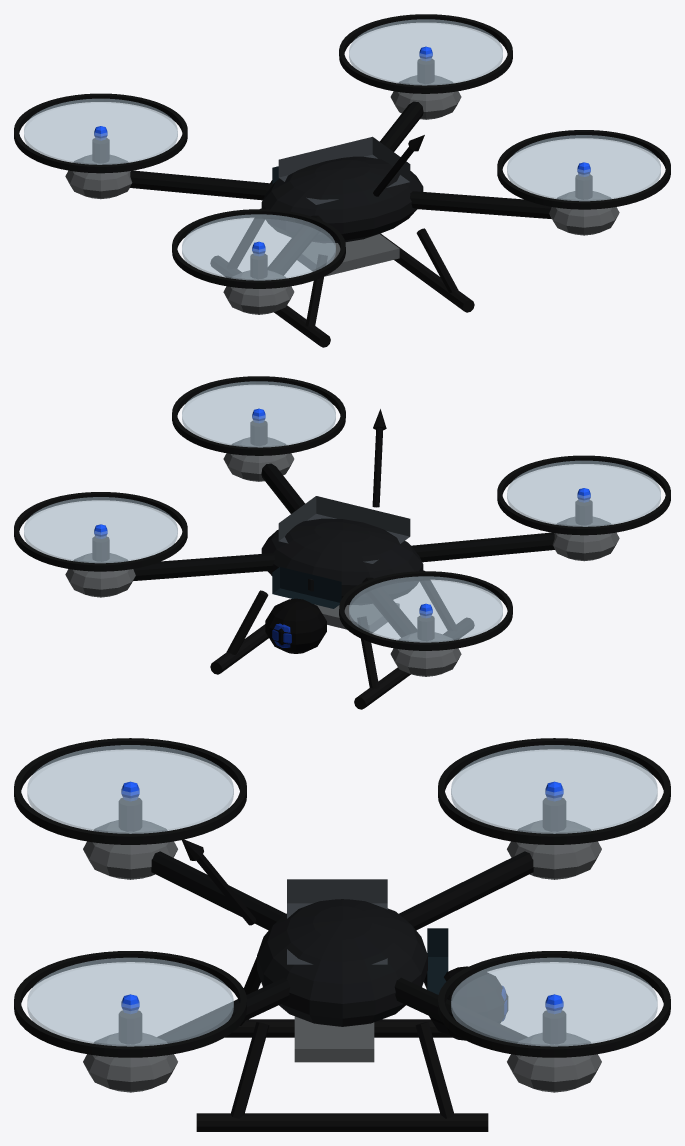
File: quadcopter_drone_spinning_disks.obj
3 views of the same model, one above another, from view 1: azimuth 30°, elevation 25°; view 2: azimuth 150°, elevation 25°; view 3: azimuth 270°, elevation 25° (orthographic). The views are drawn at different scales.
Visible parts, largest first — view 1: Central_body_rounded_black_shell, FrontLeft_solid_blur_propeller_disk, BackLeft_solid_blur_propeller_disk, FrontRight_solid_blur_propeller_disk, BackRight_solid_blur_propeller_disk, FrontLeft_thin_prop_guard_ring, FrontRight_thin_prop_guard_ring, BackLeft_thin_prop_guard_ring, BackRight_thin_prop_guard_ring, FrontLeft_carbon_arm_to_motor, BackRight_carbon_arm_to_motor, Top_battery_pack_panel (+12 smaller); view 2: BackLeft_solid_blur_propeller_disk, FrontLeft_solid_blur_propeller_disk, FrontRight_solid_blur_propeller_disk, BackRight_solid_blur_propeller_disk, Central_body_rounded_black_shell, BackLeft_thin_prop_guard_ring, BackRight_thin_prop_guard_ring, FrontLeft_thin_prop_guard_ring, FrontRight_thin_prop_guard_ring, Top_battery_pack_panel, BackLeft_carbon_arm_to_motor, FrontRight_carbon_arm_to_motor (+15 smaller); view 3: Central_body_rounded_black_shell, FrontRight_solid_blur_propeller_disk, BackRight_solid_blur_propeller_disk, FrontLeft_solid_blur_propeller_disk, BackLeft_solid_blur_propeller_disk, FrontLeft_thin_prop_guard_ring, BackLeft_thin_prop_guard_ring, FrontRight_thin_prop_guard_ring, BackRight_thin_prop_guard_ring, Right_landing_skid_rail, FrontRight_motor_housing_round, BackRight_motor_housing_round (+18 smaller).
Part boxes in pixels (x1,y1,x2,y2): Central_body_rounded_black_shell: (261, 156, 423, 242); FrontLeft_solid_blur_propeller_disk: (24, 98, 177, 164); BackLeft_solid_blur_propeller_disk: (182, 214, 335, 280); FrontRight_solid_blur_propeller_disk: (349, 19, 502, 85); BackRight_solid_blur_propeller_disk: (507, 135, 660, 201); FrontLeft_thin_prop_guard_ring: (14, 93, 187, 173); FrontRight_thin_prop_guard_ring: (339, 14, 512, 93); BackLeft_thin_prop_guard_ring: (172, 209, 345, 288); BackRight_thin_prop_guard_ring: (497, 130, 670, 209); FrontLeft_carbon_arm_to_motor: (130, 170, 273, 200); BackRight_carbon_arm_to_motor: (410, 191, 551, 218); Top_battery_pack_panel: (278, 136, 410, 204); BackLeft_solid_blur_propeller_disk: (507, 460, 660, 526); FrontLeft_solid_blur_propeller_disk: (349, 576, 502, 642); FrontRight_solid_blur_propeller_disk: (24, 497, 177, 563); BackRight_solid_blur_propeller_disk: (182, 381, 335, 447); Central_body_rounded_black_shell: (261, 518, 423, 604); BackLeft_thin_prop_guard_ring: (497, 455, 670, 535); BackRight_thin_prop_guard_ring: (172, 376, 345, 455); FrontLeft_thin_prop_guard_ring: (339, 571, 512, 650); FrontRight_thin_prop_guard_ring: (14, 492, 187, 571); Top_battery_pack_panel: (278, 496, 410, 563); BackLeft_carbon_arm_to_motor: (411, 532, 554, 562); FrontRight_carbon_arm_to_motor: (133, 553, 274, 580); Central_body_rounded_black_shell: (257, 899, 427, 1026); FrontRight_solid_blur_propeller_disk: (451, 957, 657, 1046); BackRight_solid_blur_propeller_disk: (27, 957, 233, 1046); FrontLeft_solid_blur_propeller_disk: (451, 745, 657, 833); BackLeft_solid_blur_propeller_disk: (27, 745, 233, 833); FrontLeft_thin_prop_guard_ring: (438, 738, 670, 844); BackLeft_thin_prop_guard_ring: (14, 738, 246, 844); FrontRight_thin_prop_guard_ring: (438, 951, 670, 1057); BackRight_thin_prop_guard_ring: (14, 951, 246, 1057); Right_landing_skid_rail: (196, 1113, 488, 1131); FrontRight_motor_housing_round: (507, 1033, 601, 1092); BackRight_motor_housing_round: (83, 1033, 177, 1092).
Size of the model in its own units: 2.78 by 1.08 by 2.48.
